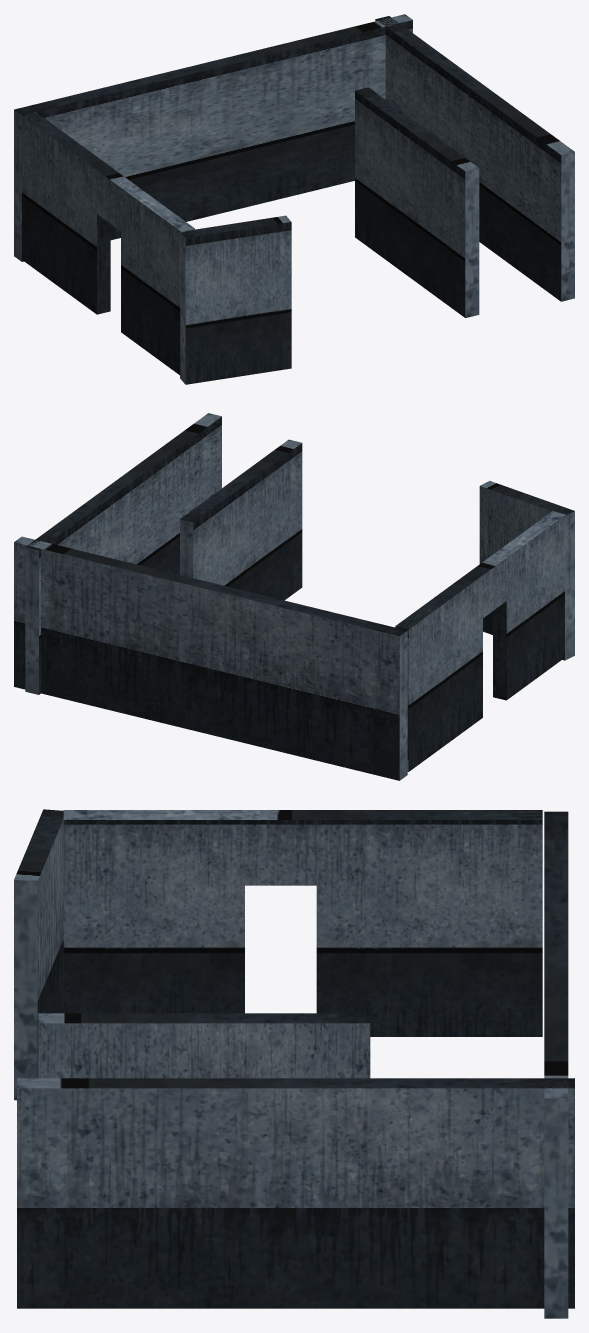
File: storage_room.glb
3 views of the same model, one above another, from view 1: azimuth 30°, elevation 25°; view 2: azimuth 150°, elevation 25°; view 3: azimuth 270°, elevation 25° (orthographic). The views are drawn at different scales.
Parts seen in each view (by area): view 1: mur2.004, mur3.001, mur2.003, mur2.002, mur2.001; view 2: mur2.004, mur3.001, mur2.003, mur2.002, mur2.001; view 3: mur2.003, mur3.001, mur2.002, mur2.004, mur2.001.
Part boxes in pixels (x1,y1,x2,y2): mur2.004: [14, 14, 412, 261]; mur3.001: [22, 112, 194, 375]; mur2.003: [375, 16, 574, 301]; mur2.002: [355, 87, 479, 317]; mur2.001: [180, 215, 291, 384]; mur2.004: [14, 536, 407, 780]; mur3.001: [395, 511, 565, 771]; mur2.003: [25, 413, 221, 694]; mur2.002: [180, 439, 302, 600]; mur2.001: [479, 481, 574, 660]; mur2.003: [17, 1078, 574, 1308]; mur3.001: [63, 810, 542, 1036]; mur2.002: [38, 1013, 370, 1078]; mur2.004: [544, 811, 568, 1318]; mur2.001: [14, 809, 63, 1100].
Bounding box in the file's own units: 8.56 × 3.06 × 7.03.
5 materials, 5 textured.
